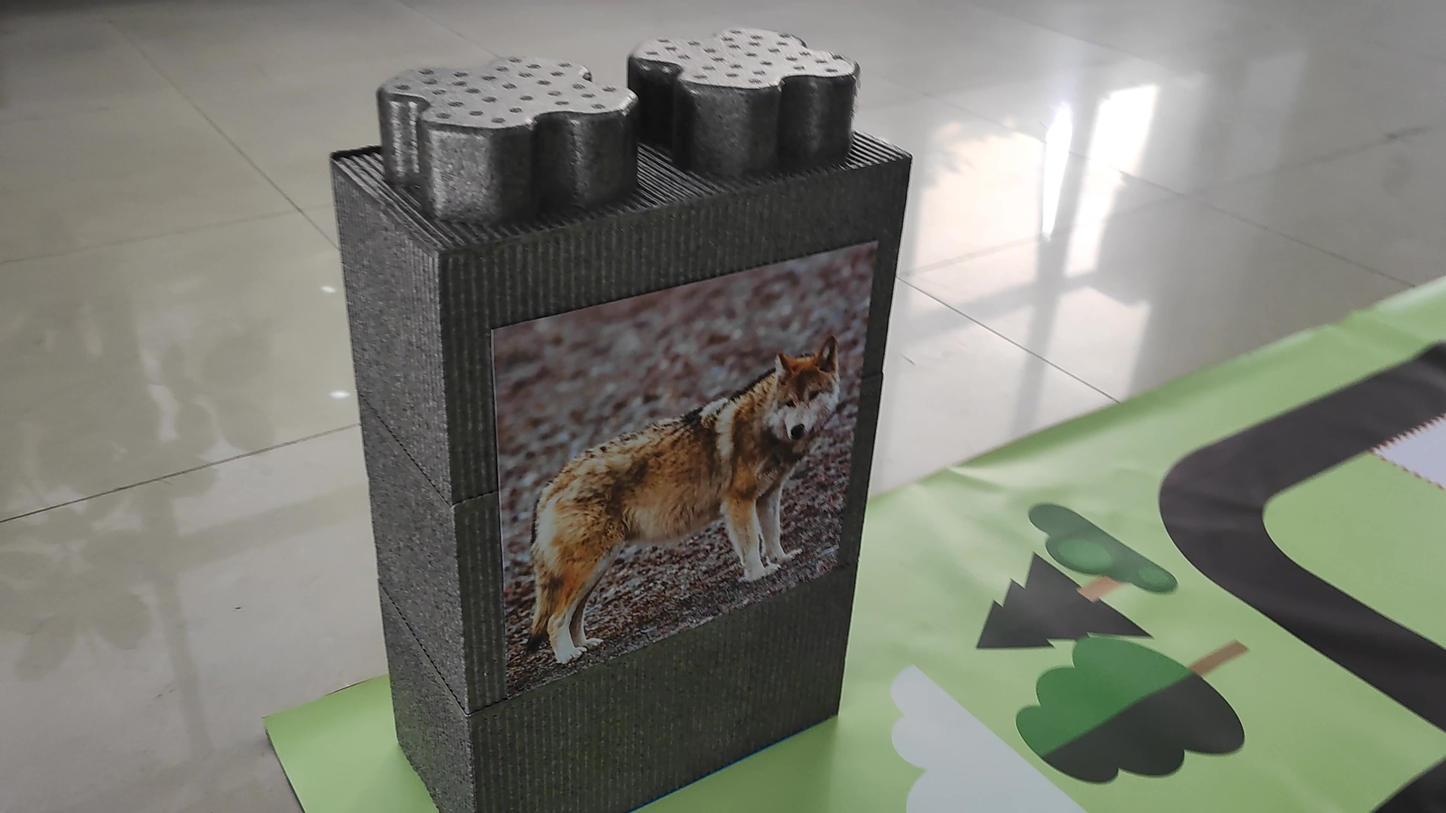wolf: (519, 301, 847, 669)
